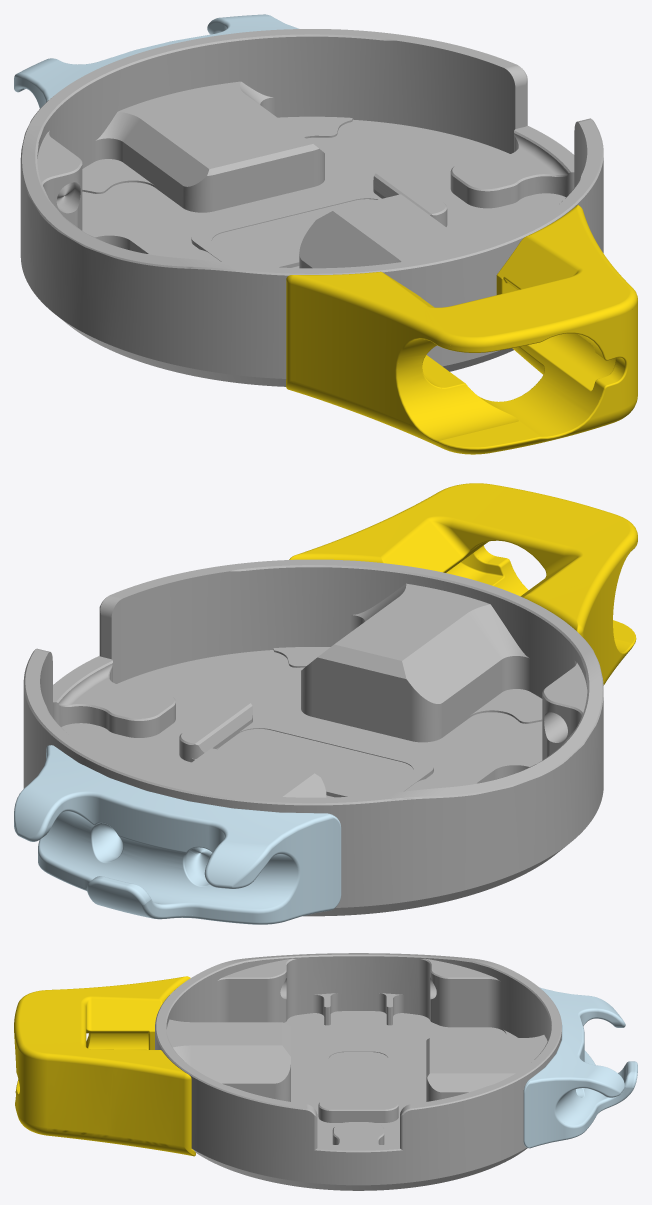
The model's file is quick_changer.dae.
3 renders of one model, top to bottom at view 1: azimuth 30°, elevation 25°; view 2: azimuth 150°, elevation 25°; view 3: azimuth 270°, elevation 25°, orthographic. The views are drawn at different scales.
Parts seen in each view (by area): view 1: Housing, Plug.001, CableHolder; view 2: Housing, CableHolder, Plug.001; view 3: Housing, Plug.001, CableHolder.
Boxes of the visible parts, <box> form: Housing: <box>20,29,603,386</box>; Plug.001: <box>286,205,637,454</box>; CableHolder: <box>14,14,298,108</box>; Housing: <box>23,559,603,916</box>; CableHolder: <box>14,745,341,924</box>; Plug.001: <box>289,483,637,685</box>; Housing: <box>155,953,561,1190</box>; Plug.001: <box>14,976,195,1156</box>; CableHolder: <box>523,987,637,1148</box>.
Size of the model in its own units: 0.071 by 0.1088 by 0.017.
